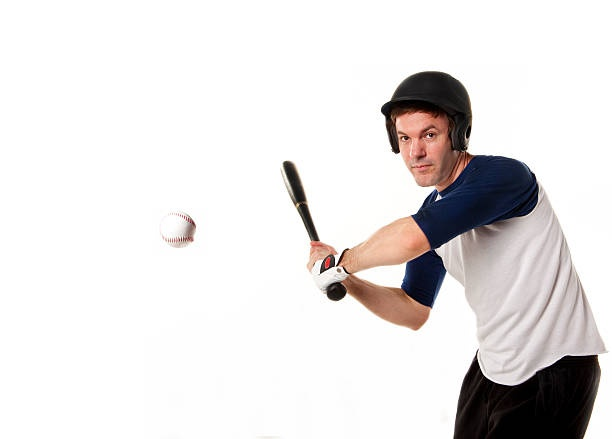bita: (274, 156, 347, 305)
